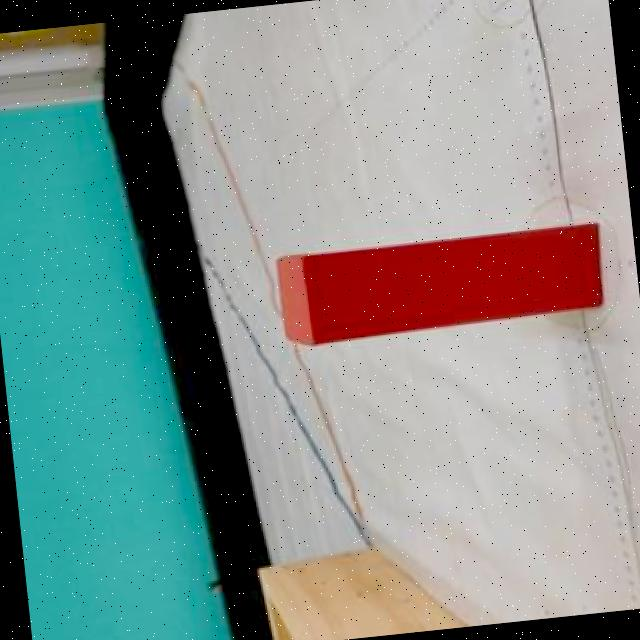redbox: (274, 219, 608, 346)
